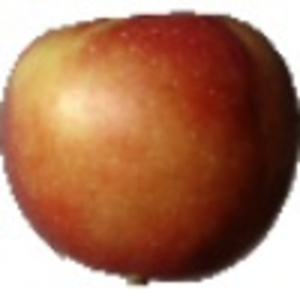maçã braeburn: (1, 7, 299, 280)
